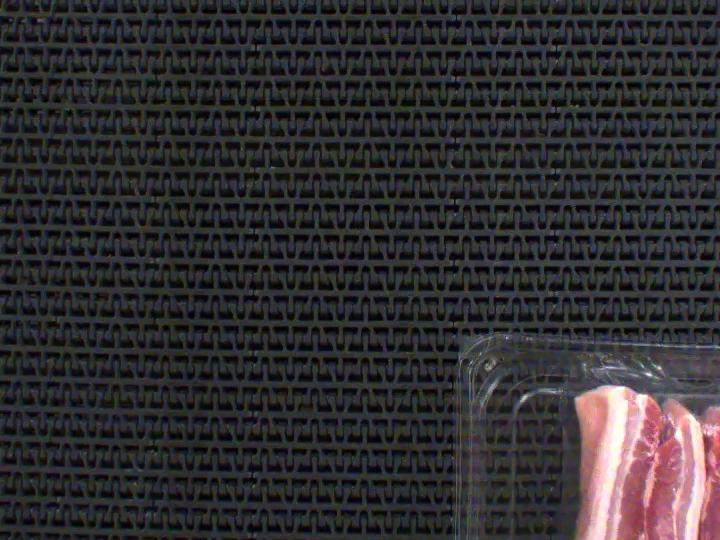unsealed: (547, 348, 720, 523)
